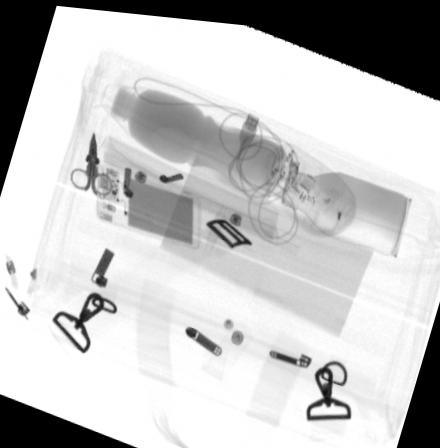Powerbank: (95, 158, 202, 247)
Scissors: (66, 125, 112, 194)
